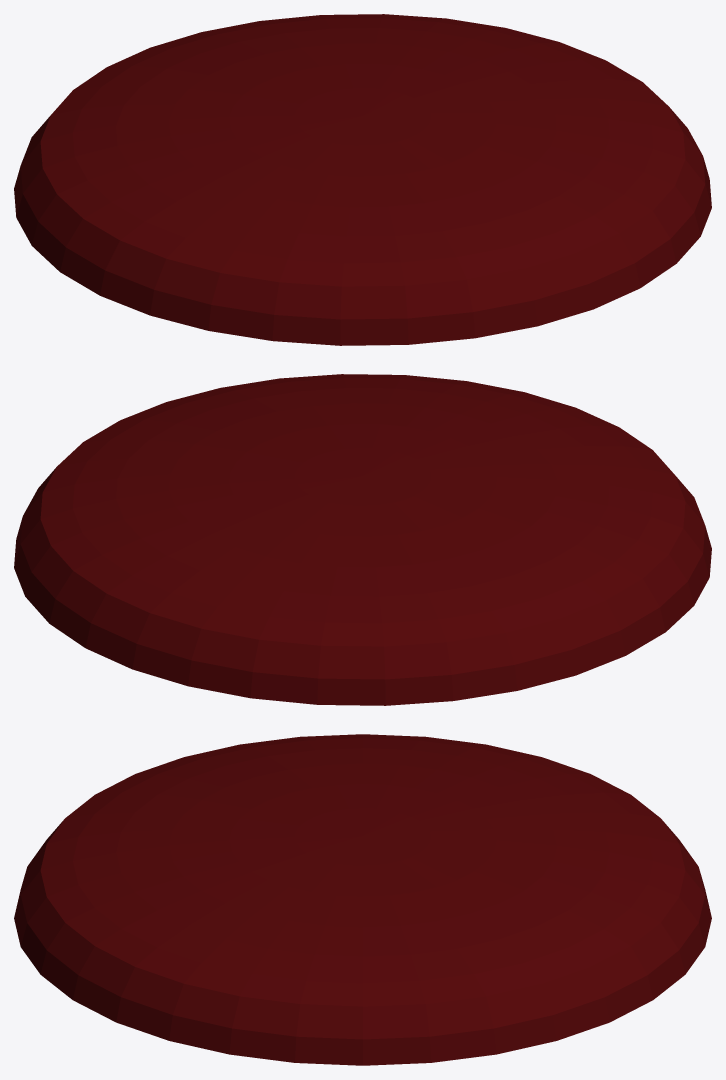
Rendered from HamburguesaSuperior.fbx.
3 renders of one model, top to bottom at view 1: azimuth 30°, elevation 25°; view 2: azimuth 150°, elevation 25°; view 3: azimuth 270°, elevation 25°, orthographic.
Parts seen in each view (by area): view 1: Sphere.001; view 2: Sphere.001; view 3: Sphere.001.
Part boxes in pixels (x1,y1,x2,y2): Sphere.001: (14,14,711,345); Sphere.001: (14,374,711,705); Sphere.001: (14,734,711,1065).
Bounding box in the file's own units: 163 × 21.25 × 163.
